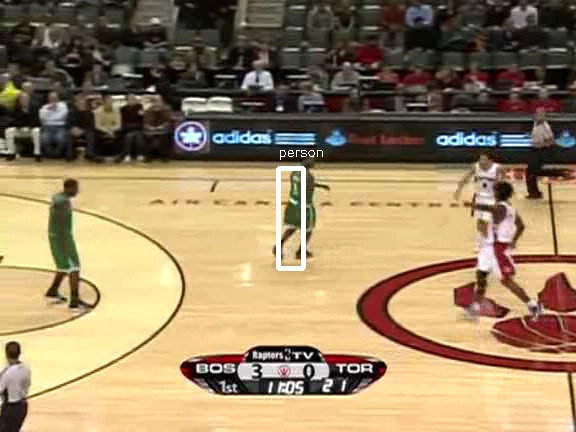person: (283, 161, 317, 242), (282, 161, 316, 242), (284, 161, 318, 242), (283, 160, 317, 241), (283, 162, 317, 243)
target_negative: (57, 226, 268, 400), (359, 235, 524, 393), (513, 70, 559, 251), (63, 162, 360, 183), (442, 185, 479, 236), (535, 312, 565, 338)
